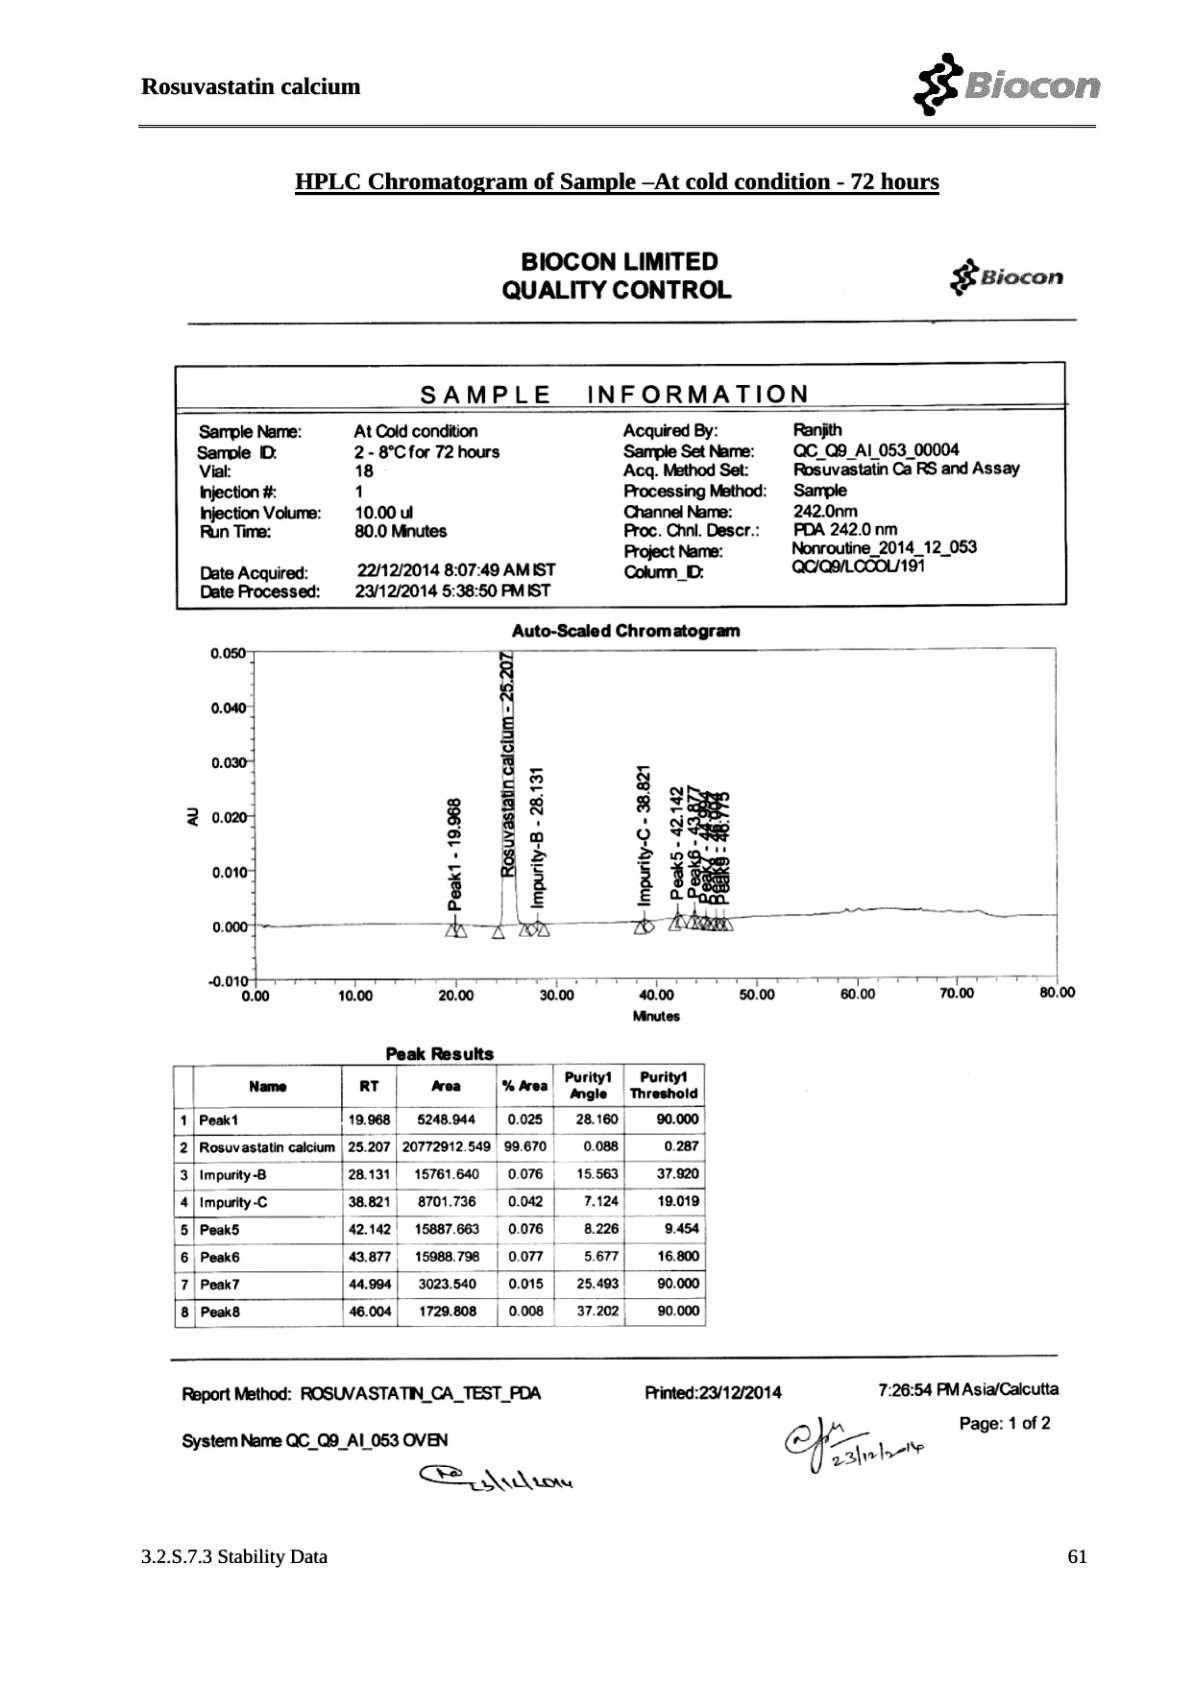full_lined: (170, 1062, 708, 1329)
partial_lined_merged_cells: (172, 360, 1069, 611)
